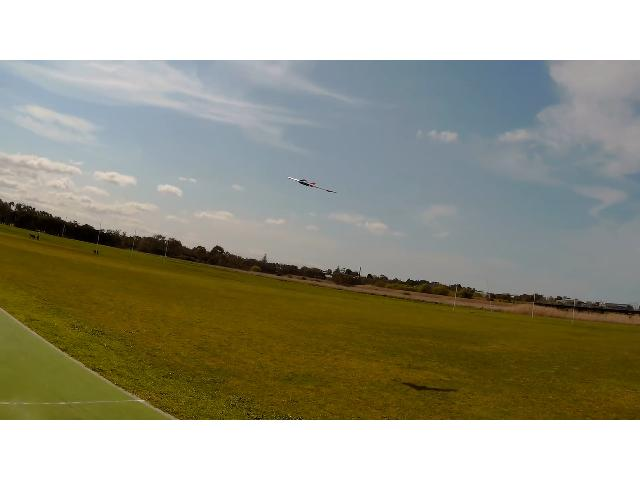Anti-Drone: (288, 176, 336, 194)
